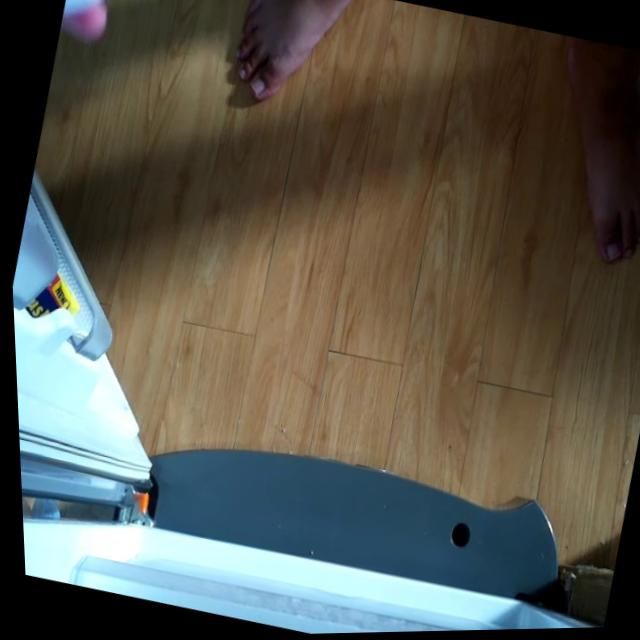egg: (59, 0, 124, 35)
